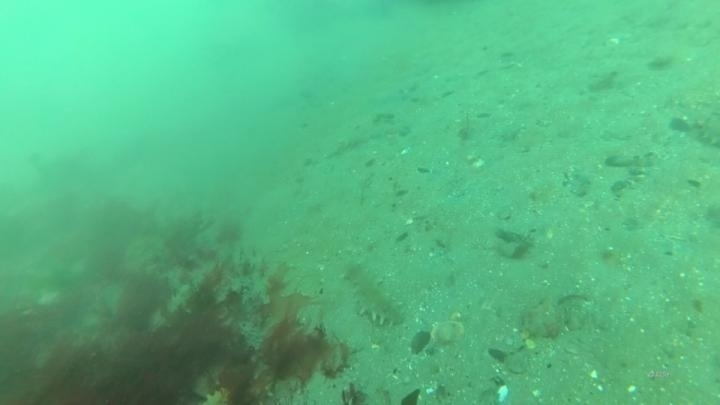holothurian: (341, 259, 407, 330)
